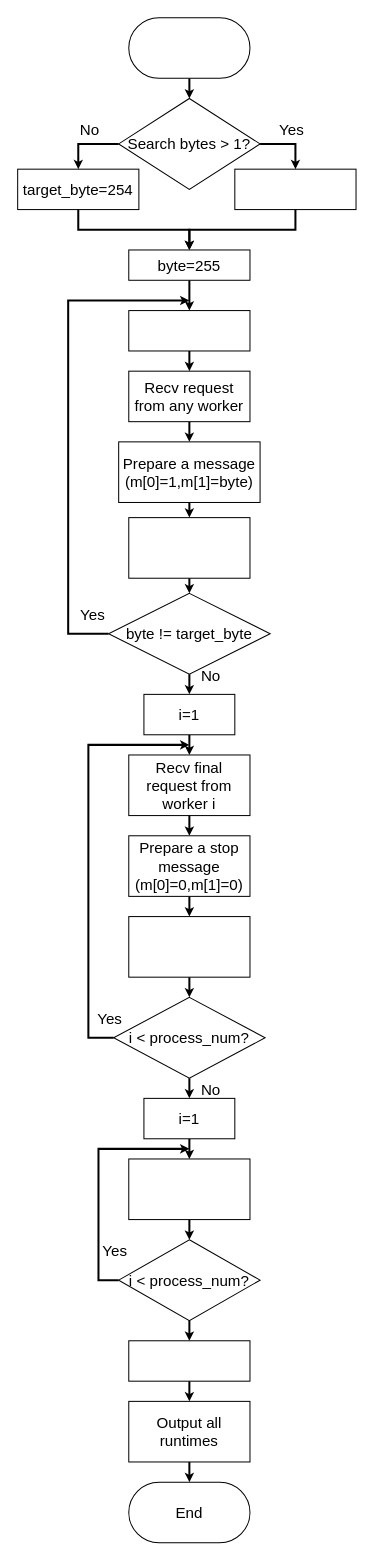
Image size: 374x1560. Some labels were removed from this diagram. Here are the shapes that lost their labels. From the top down, the box of each, then its label:
(128, 17, 250, 78): Start
(234, 168, 356, 210): target_byte=255
(128, 310, 250, 351): byte++
(128, 517, 250, 578): Send the message to the same worker
(128, 916, 250, 977): Send the message to the worker i
(128, 1158, 250, 1220): Recv runtime message from worker i
(128, 1340, 250, 1381): Calculate own runtime
